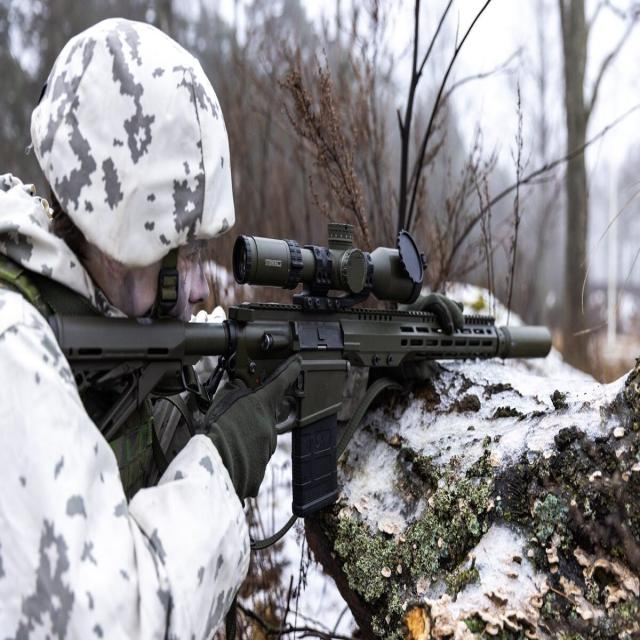Rifle: (51, 233, 552, 519)
